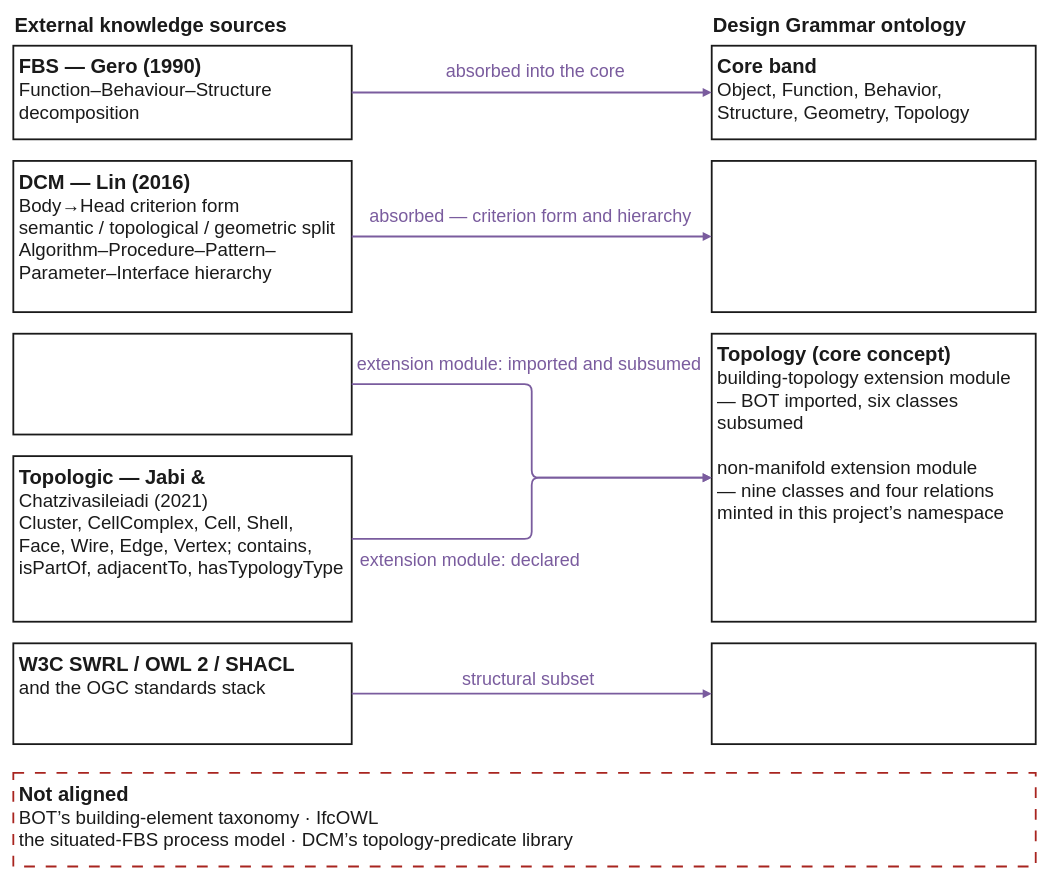
This 1063x880 diagram has some shape labels left out. The shapes that lost their labels are listed below. From the top down, each one's centre as x and y in pixels, then its label:
At point (873, 236): "ComputGraph Algorithm, Procedure, Pattern, Parameter, Interface".
At point (182, 383): "BOT — Rasmussen et al. (2020) Site, Building, Storey, Space, Zone, Element".
At point (873, 693): "Metagraph + standards module Rule, Atom, Var, Literal, Builtin".
